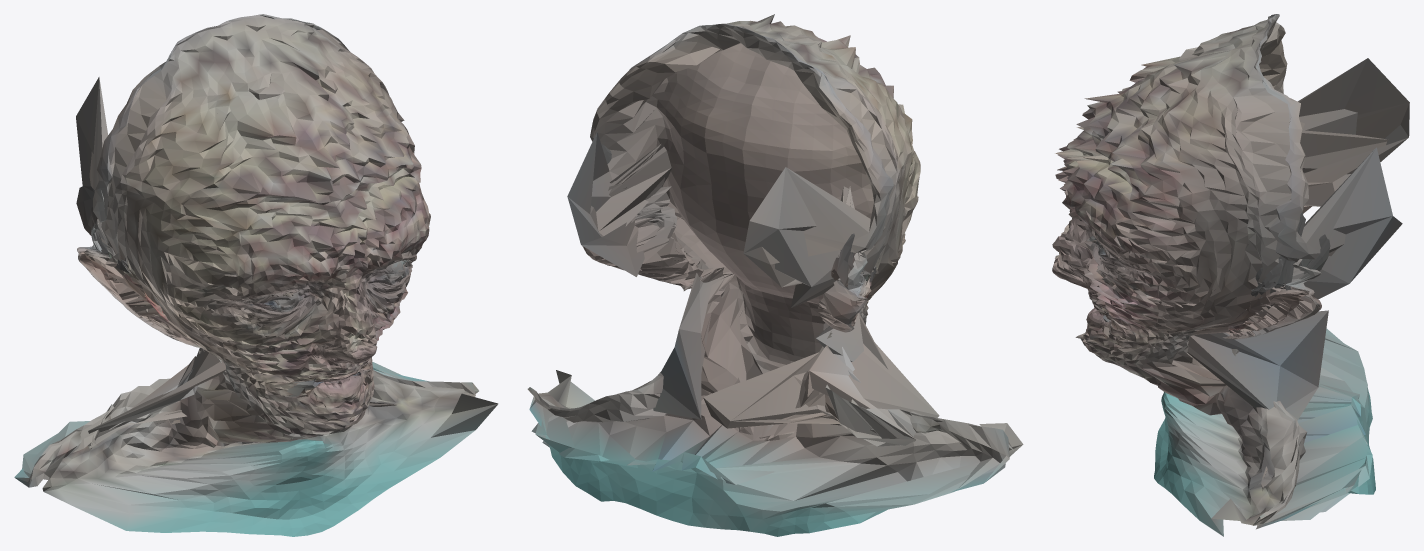
Rendered from chibi_textured_mesh.obj.
3 views of the same model, side by side, from view 1: azimuth 30°, elevation 25°; view 2: azimuth 150°, elevation 25°; view 3: azimuth 270°, elevation 25° (orthographic). The views are drawn at different scales.
Bounding box in the file's own units: 0.327 × 0.3176 × 0.2336.
